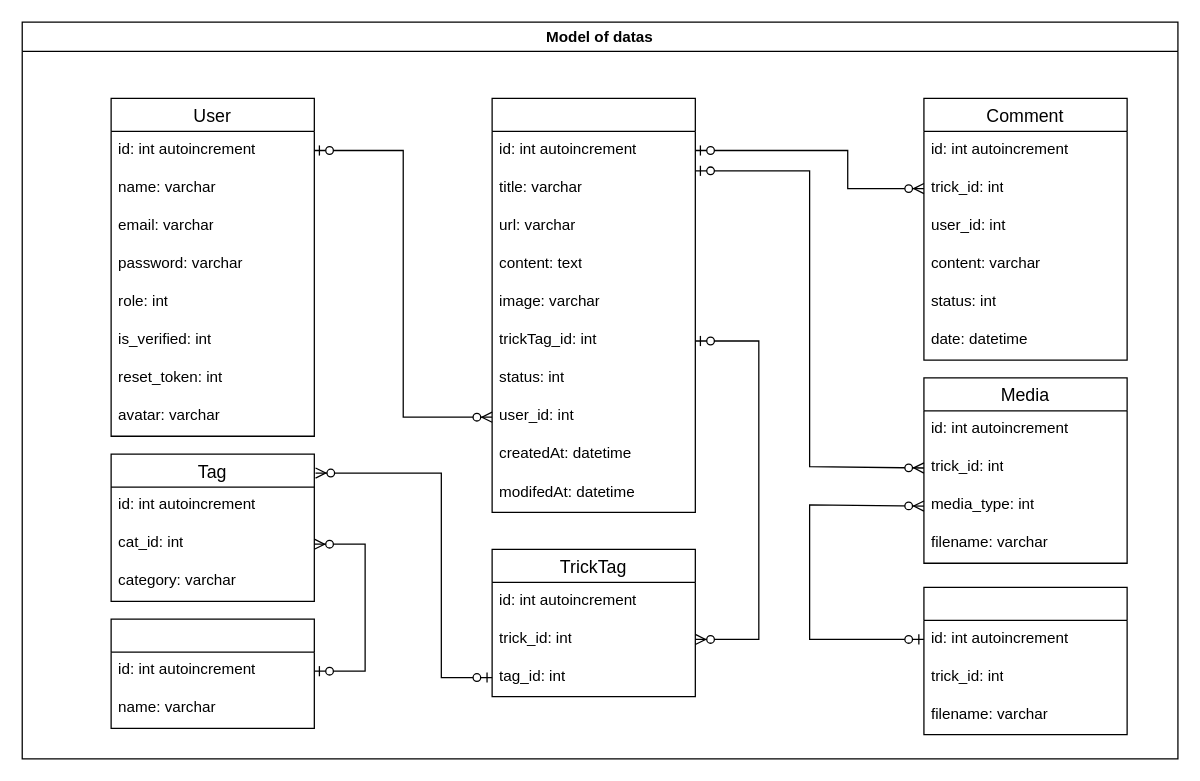
Some shapes in this 1200 by 781 pixel diagram are drawn without their labels. Each missing label, with the box of its shape:
Category: (110, 618, 314, 728)
MediaType: (923, 586, 1127, 735)
Tricks: (491, 97, 695, 512)
